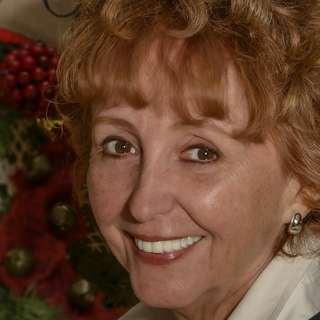eye: (174, 140, 222, 169), (96, 133, 142, 162)
